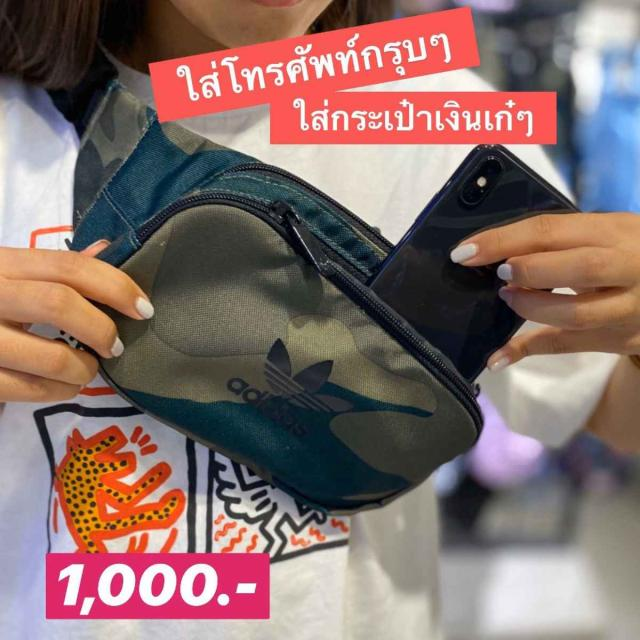Handbag: (66, 85, 486, 512)
